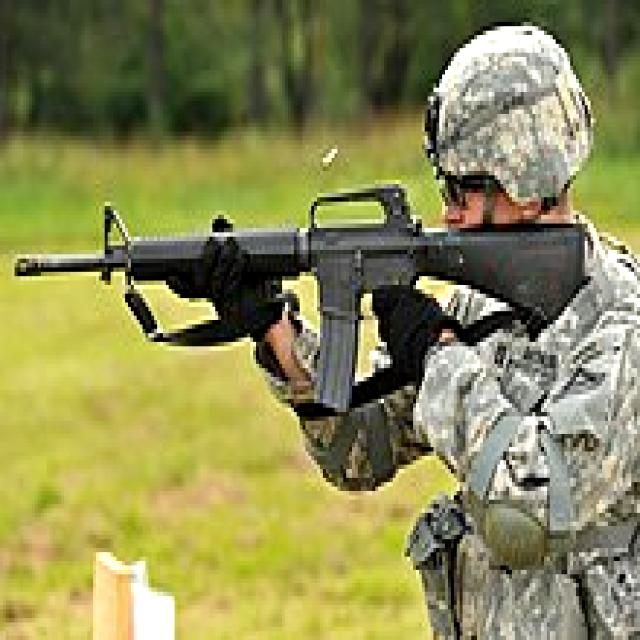m16: (3, 150, 606, 433)
